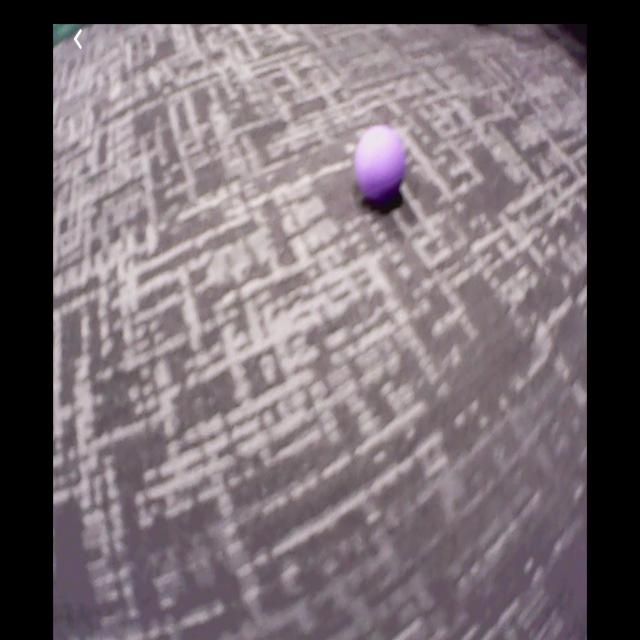ball: (358, 126, 406, 198)
